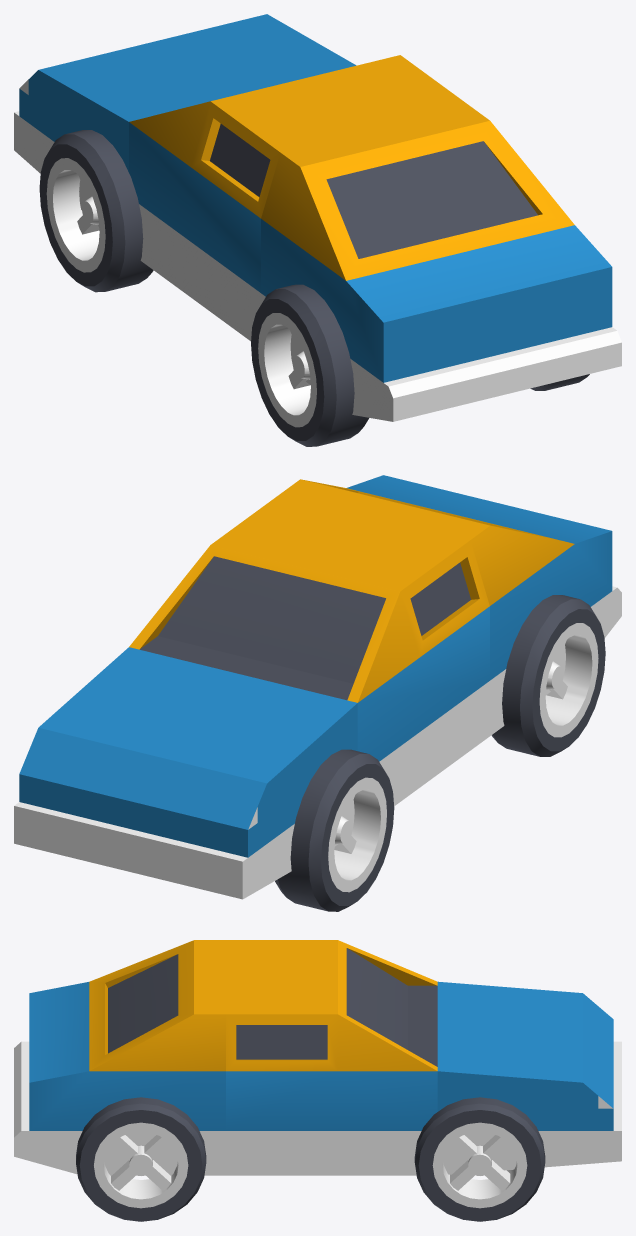
The model's file is car.fbx.
The picture shows the model from 3 angles, top to bottom: view 1: azimuth 30°, elevation 25°; view 2: azimuth 150°, elevation 25°; view 3: azimuth 270°, elevation 25°; orthographic projection. The views are drawn at different scales.
Visible parts, largest first — view 1: trunk_square_34, windshield_sports_33, hood_default_32, wheel_smallSports_37, wheel_smallSports_38; view 2: windshield_sports_33, hood_default_32, trunk_square_34, wheel_smallSports_38, wheel_smallSports_37; view 3: windshield_sports_33, trunk_square_34, hood_default_32, wheel_smallSports_39, wheel_smallSports_40.
Boxes of the visible parts, left/top/right/bottom form: trunk_square_34: left=261, top=106, right=621, bottom=421; windshield_sports_33: left=129, top=55, right=469, bottom=341; hood_default_32: left=14, top=14, right=356, bottom=209; wheel_smallSports_37: left=251, top=284, right=368, bottom=446; wheel_smallSports_38: left=39, top=130, right=153, bottom=292; windshield_sports_33: left=129, top=494, right=489, bottom=806; hood_default_32: left=14, top=647, right=357, bottom=899; trunk_square_34: left=281, top=475, right=621, bottom=735; wheel_smallSports_38: left=275, top=749, right=394, bottom=911; wheel_smallSports_37: left=491, top=595, right=605, bottom=756; windshield_sports_33: left=226, top=940, right=437, bottom=1175; trunk_square_34: left=14, top=940, right=225, bottom=1175; hood_default_32: left=437, top=981, right=621, bottom=1174; wheel_smallSports_39: left=414, top=1097, right=545, bottom=1221; wheel_smallSports_40: left=76, top=1097, right=206, bottom=1221.
Size of the model in its own units: 12.16 by 10.08 by 28.7.
